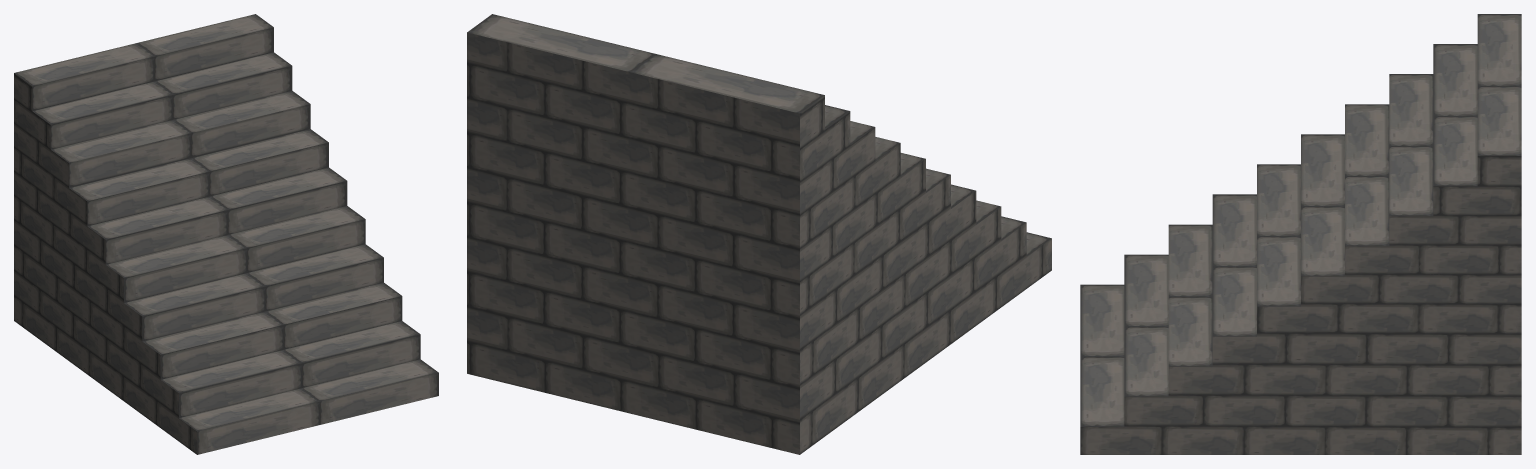
The model's file is escada.fbx.
The picture shows the model from 3 angles, left to right: view 1: azimuth 30°, elevation 25°; view 2: azimuth 150°, elevation 25°; view 3: azimuth 270°, elevation 25°; orthographic projection. The views are drawn at different scales.
Parts seen in each view (by area): view 1: escada; view 2: escada; view 3: escada.
Part boxes in pixels (x1,y1,x2,y2): escada: (14, 14, 438, 454); escada: (467, 14, 1051, 454); escada: (1080, 14, 1521, 454).
Size of the model in its own units: 20.27 by 19.87 by 26.6.
